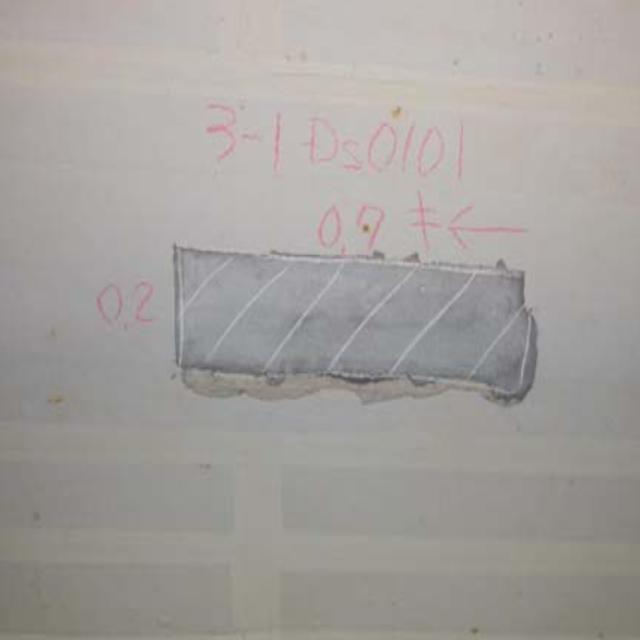spalling: (163, 235, 553, 402)
